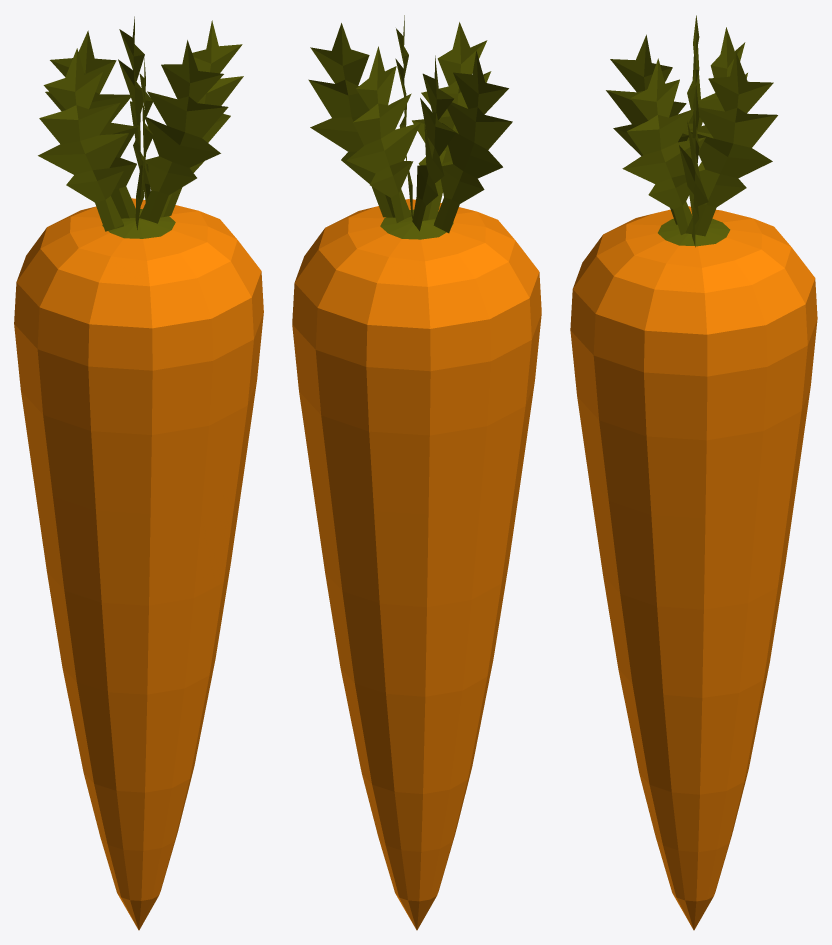
The model's file is carrot.glb.
3 renders of one model, left to right at view 1: azimuth 30°, elevation 25°; view 2: azimuth 150°, elevation 25°; view 3: azimuth 270°, elevation 25°, orthographic.
Visible parts, largest first — view 1: carrot; view 2: carrot; view 3: carrot.
Part boxes in pixels (x1,y1,x2,y2): carrot: (14,16,263,930); carrot: (292,15,541,930); carrot: (570,15,817,930).
Size of the model in its own units: 0.3625 by 1.44 by 0.3625.
Materials: 1 (1 with a texture image).
